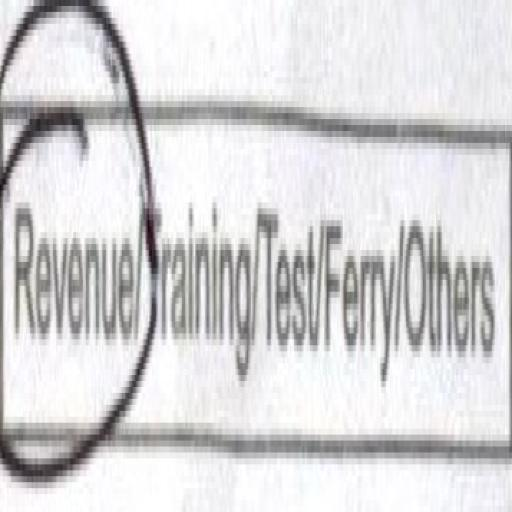check: (0, 0, 140, 470)
